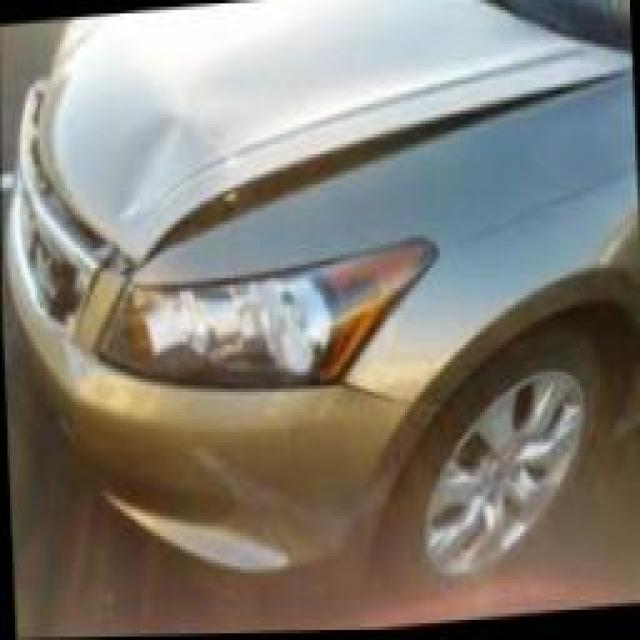Bonnet: (27, 0, 626, 273)
